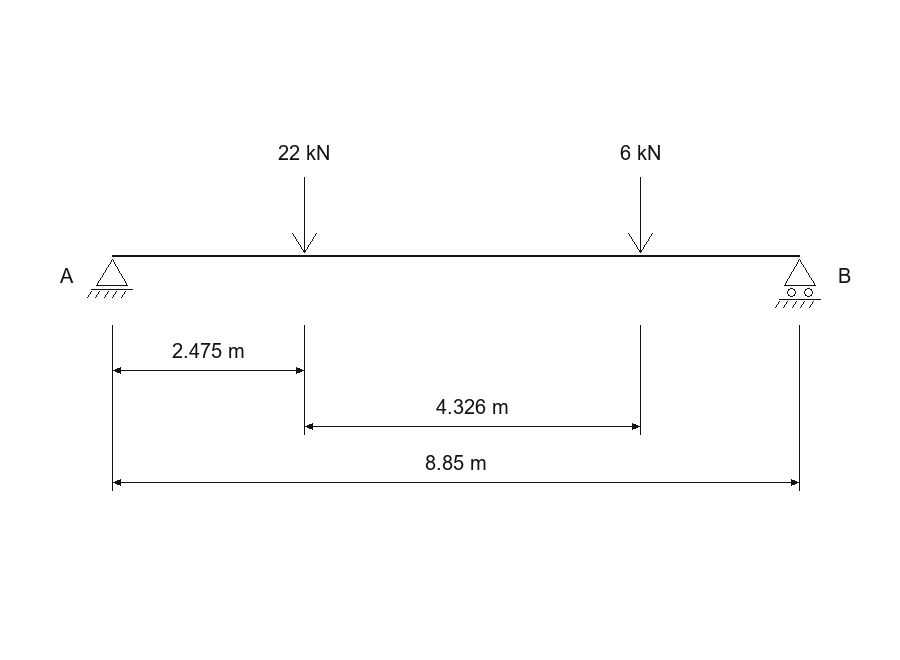pin_support: (87, 259, 133, 298)
point_load: (292, 177, 317, 253), (628, 177, 653, 253)
roller_support: (775, 259, 821, 308)
